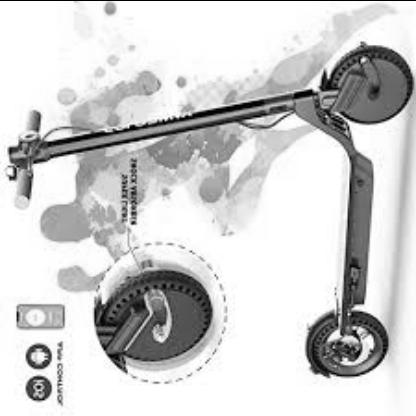bike: (0, 19, 415, 414)
car: (1, 17, 416, 416)
